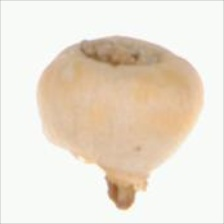L3: (93, 160, 154, 210)
L4: (36, 37, 204, 211)
